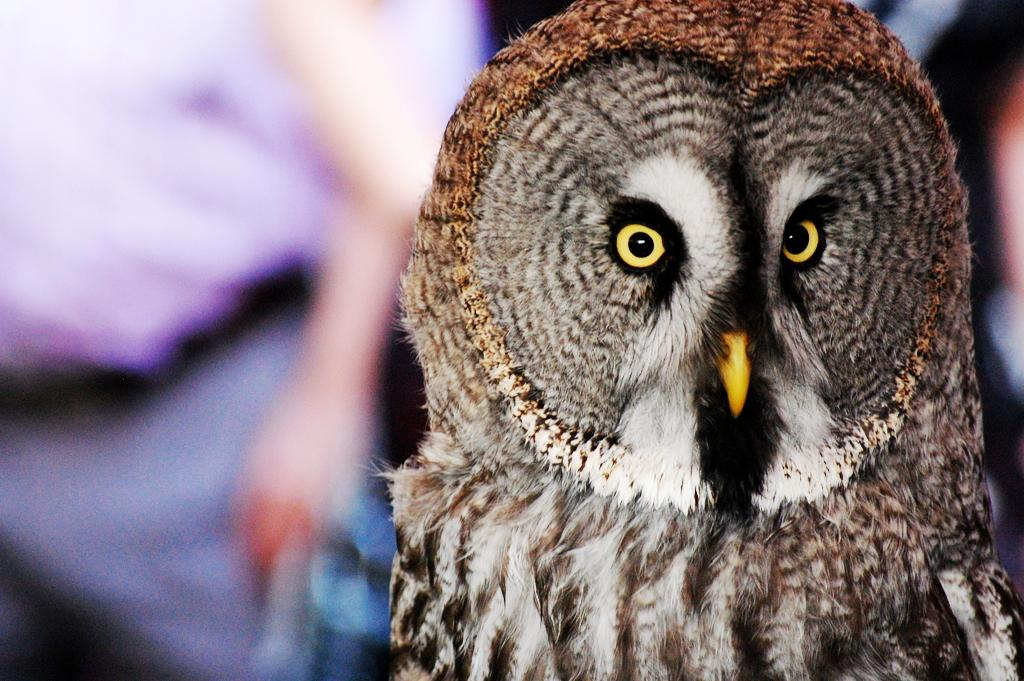Owl: (354, 0, 1024, 681)
